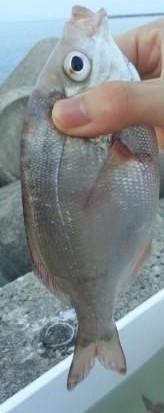fish: (22, 5, 163, 392)
